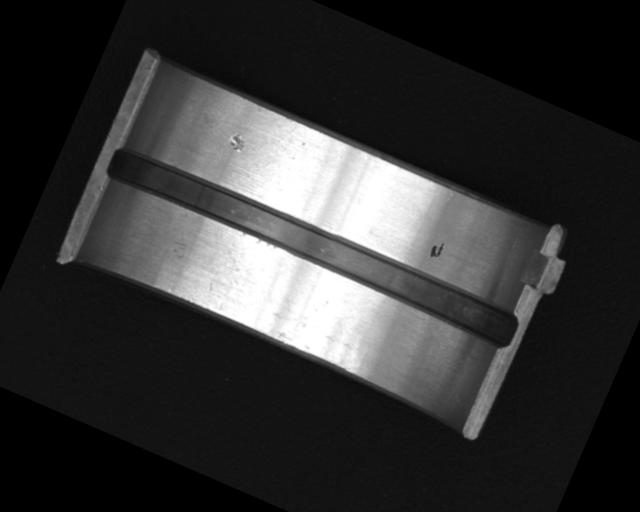blot: (427, 238, 446, 261)
bruise: (225, 130, 250, 155)
gap: (102, 137, 522, 351)
